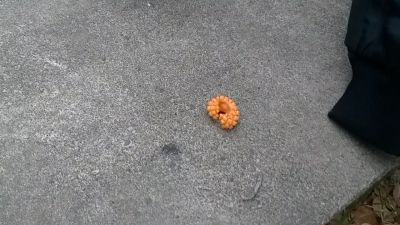eggs: (205, 95, 241, 132)
